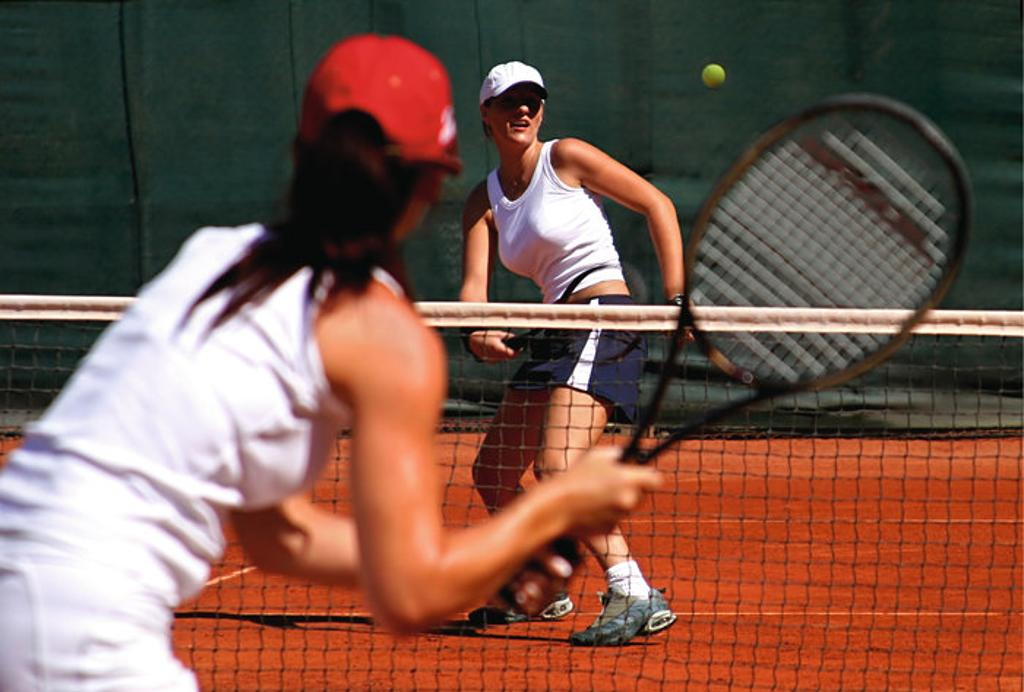face: (492, 80, 544, 146)
